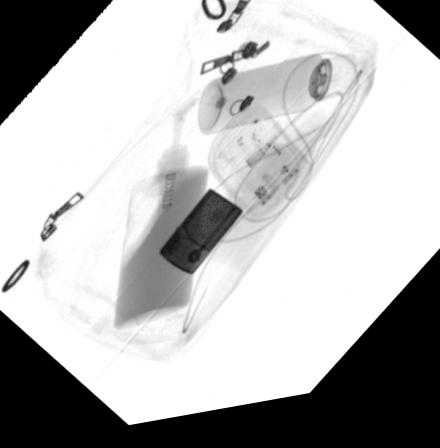Lighter: (158, 195, 242, 280)
Sprayer: (197, 63, 359, 142)
